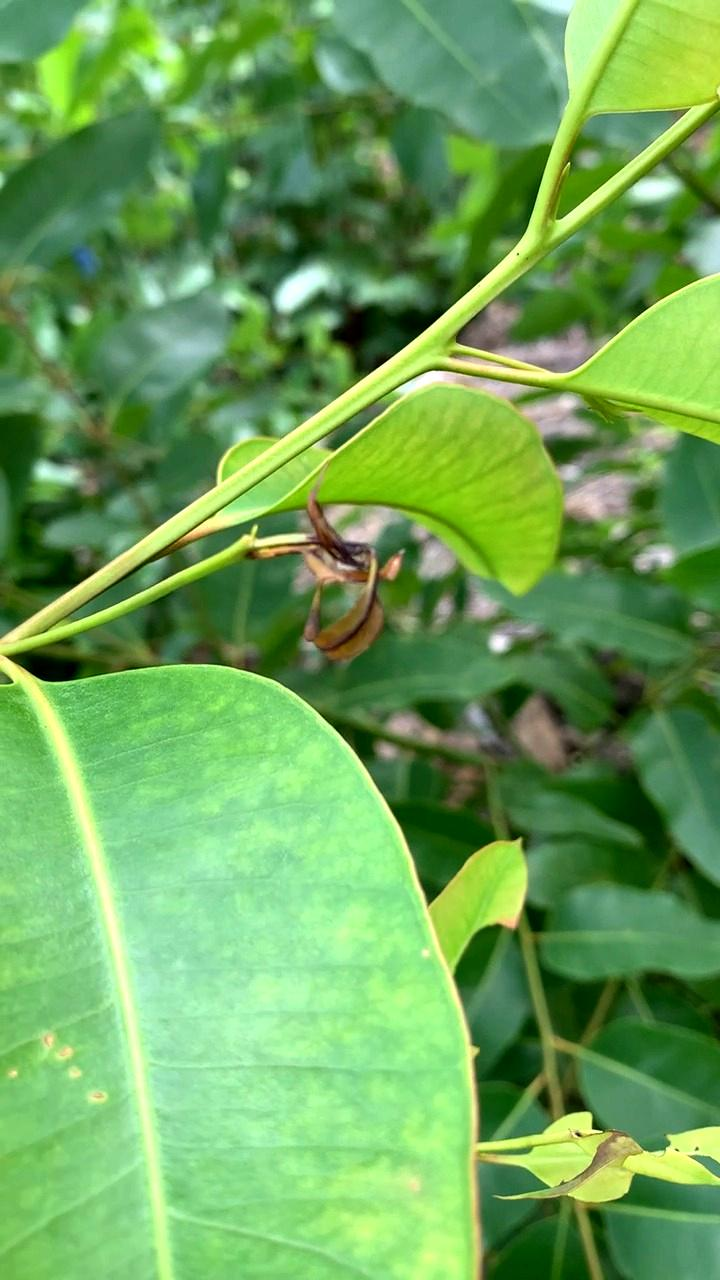Helopeltis-Withered Sprout: (286, 490, 421, 663)
